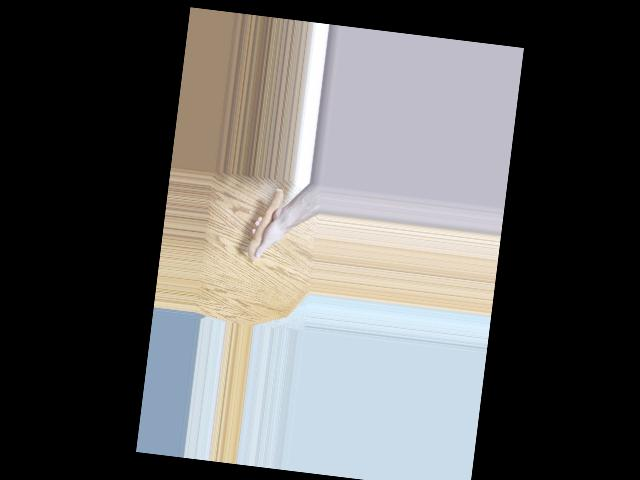sweet_potato: (244, 184, 287, 263)
